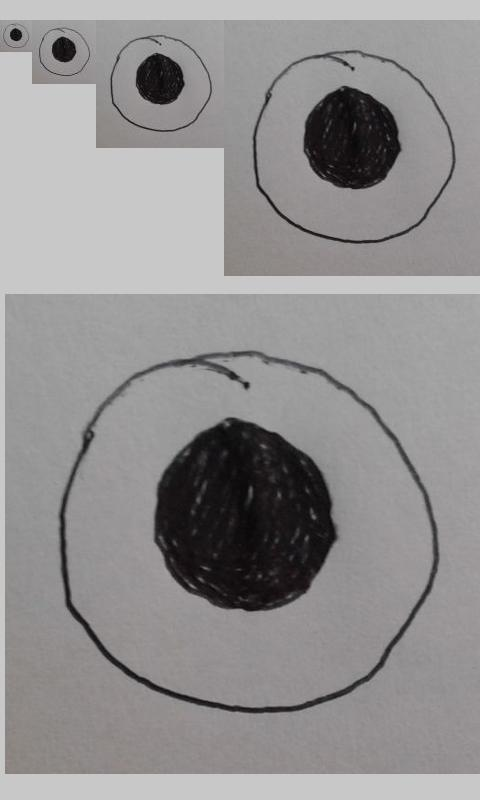radio_button: (55, 347, 443, 717), (251, 48, 459, 246), (110, 34, 213, 132), (38, 26, 91, 78), (2, 22, 30, 49)
